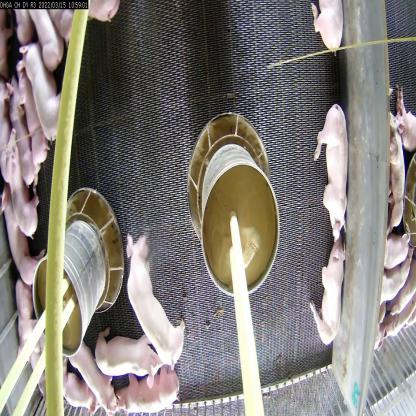Pig: (107, 221, 192, 368), (316, 102, 362, 246), (0, 105, 39, 226), (17, 57, 50, 177), (15, 304, 52, 407), (25, 48, 71, 130), (72, 336, 118, 416), (306, 238, 344, 330), (92, 336, 160, 386), (121, 372, 192, 416), (0, 205, 31, 296), (30, 0, 63, 77)
